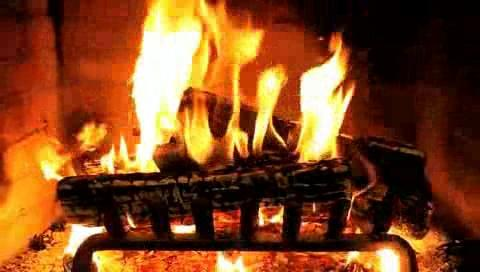fire: (118, 9, 359, 175)
